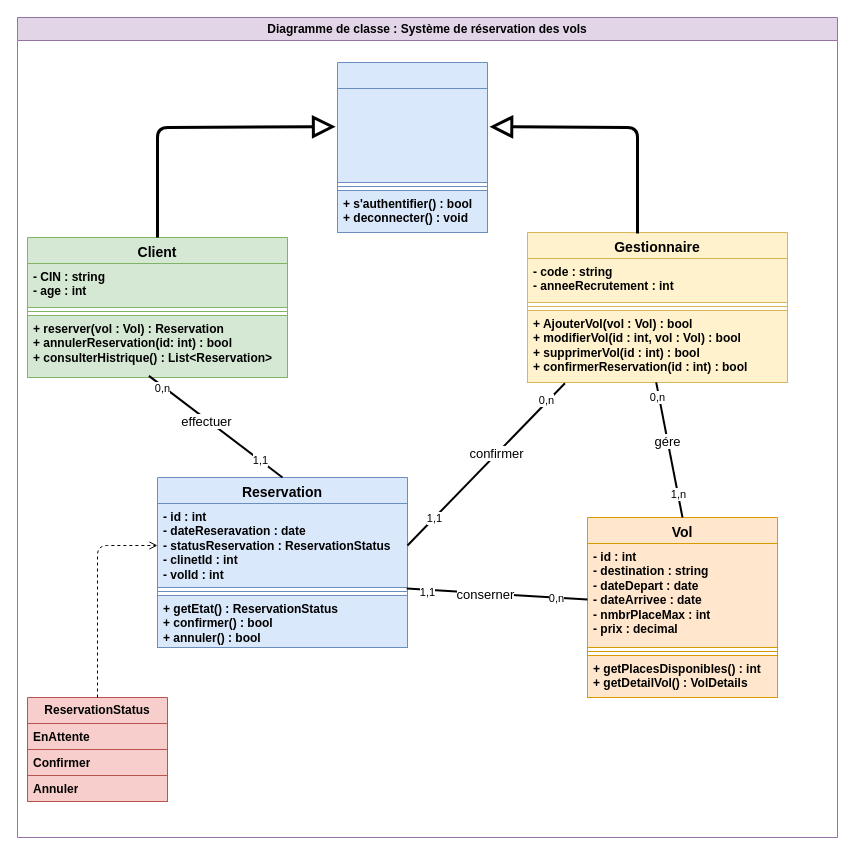
Image size: 855x855. Some labels were removed from this diagram. The box of each missing label's shape, as (x1, y1, x2, y2) in pixels:
- id : int - nom : string - prenom : string - email : string - password : string: (336, 88, 488, 182)
User: (336, 62, 488, 232)
